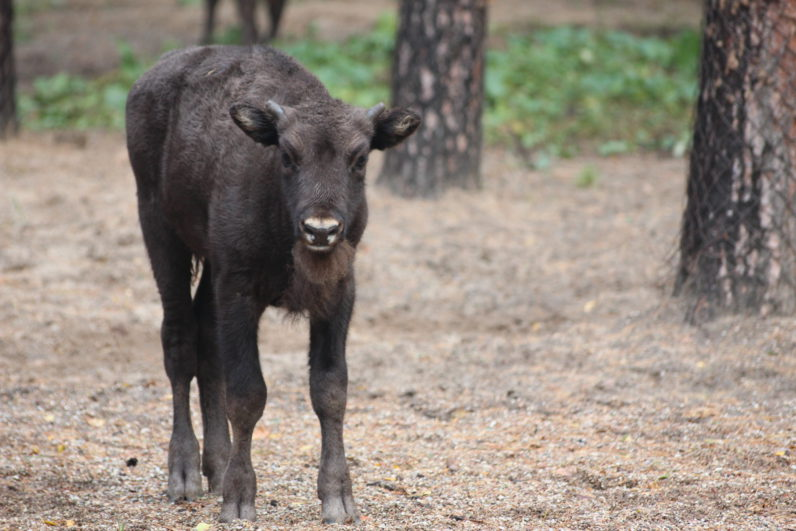zubr: (86, 15, 404, 531)
